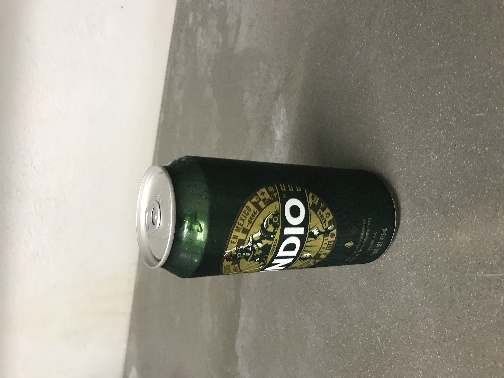IL: (93, 105, 294, 210)
